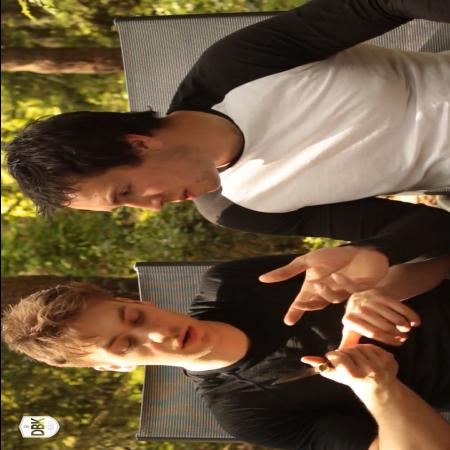long weapon: (255, 344, 373, 396)
